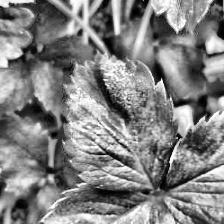Powdery Mildew Leaf: (62, 48, 180, 194)
